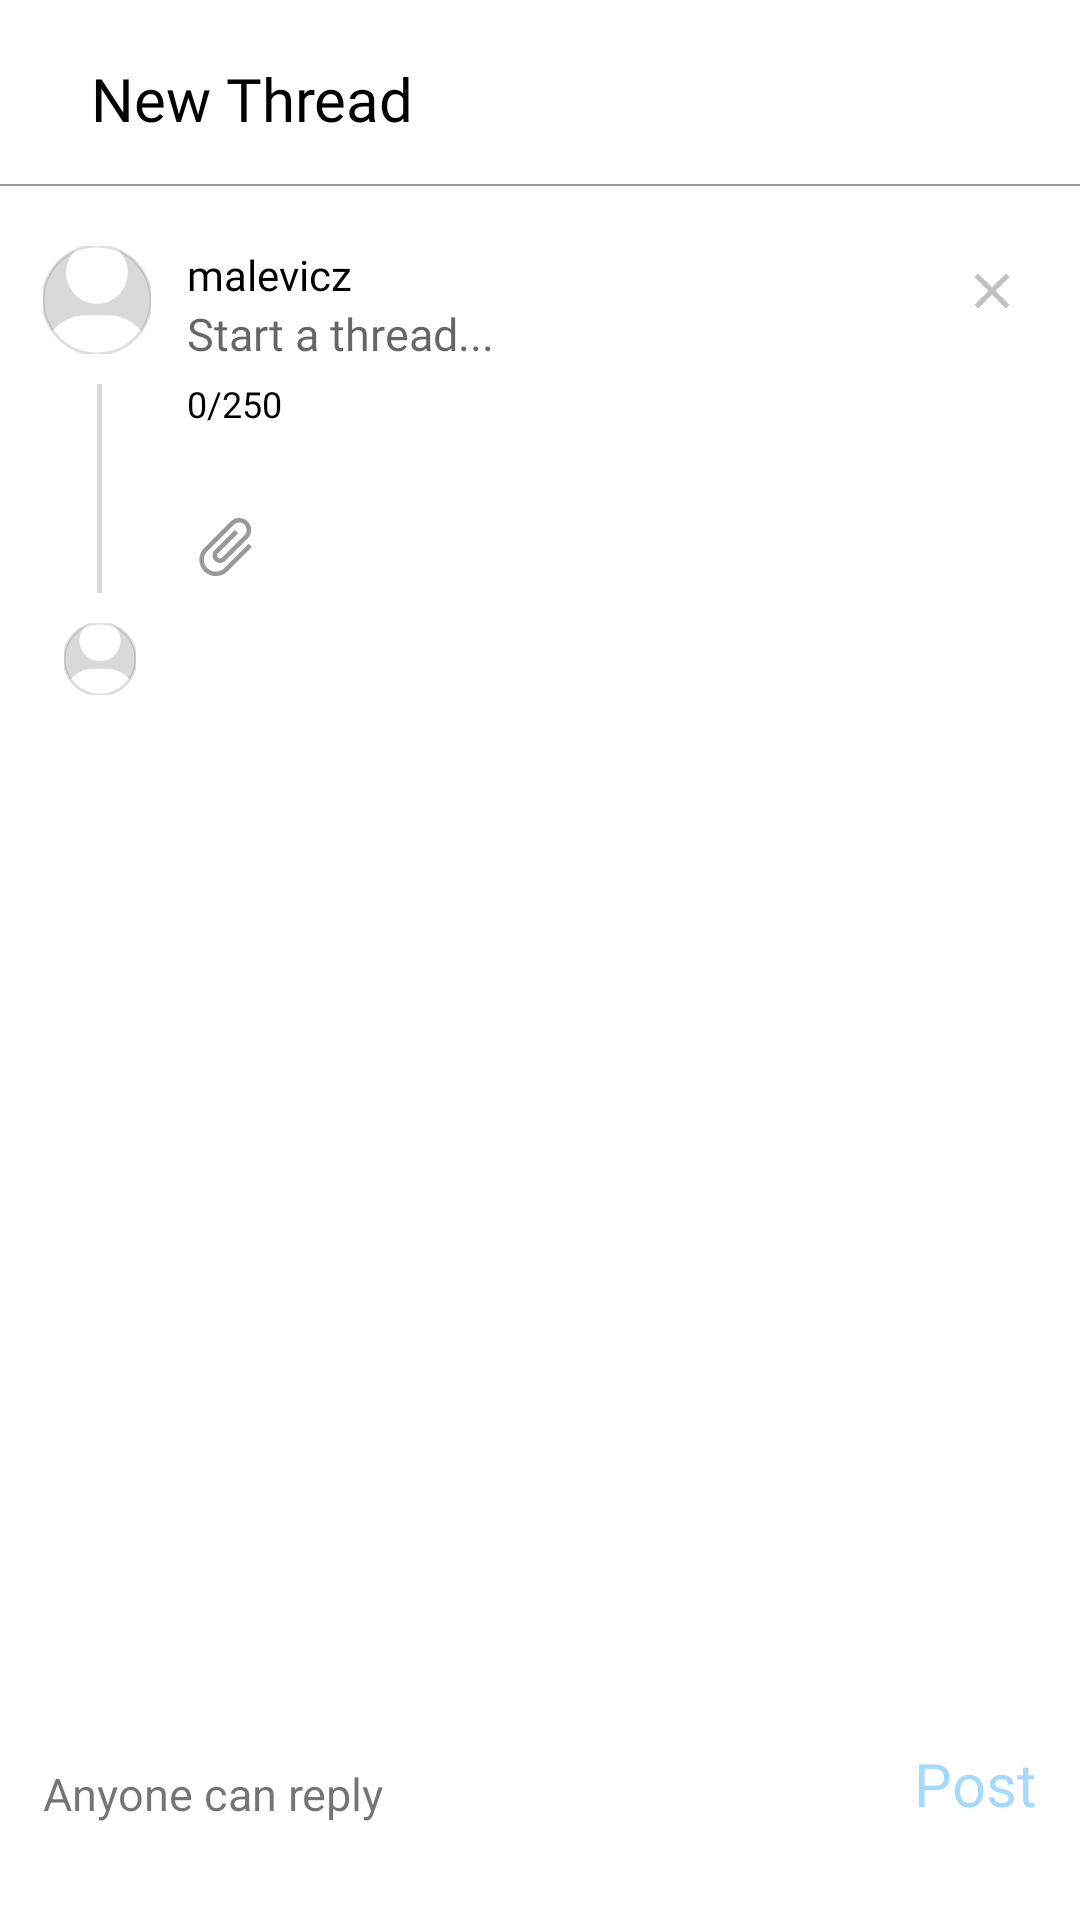

Screen size 1080×1920. Icon name, then its center in pixels as (x,y):
addimagethread: (225,547)
cancel: (992,291)
